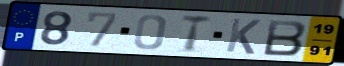0: (132, 14, 169, 51)
7: (85, 10, 120, 49)
8: (40, 10, 74, 46)
B: (262, 18, 309, 57)
K: (224, 17, 263, 56)
T: (180, 13, 214, 54)
